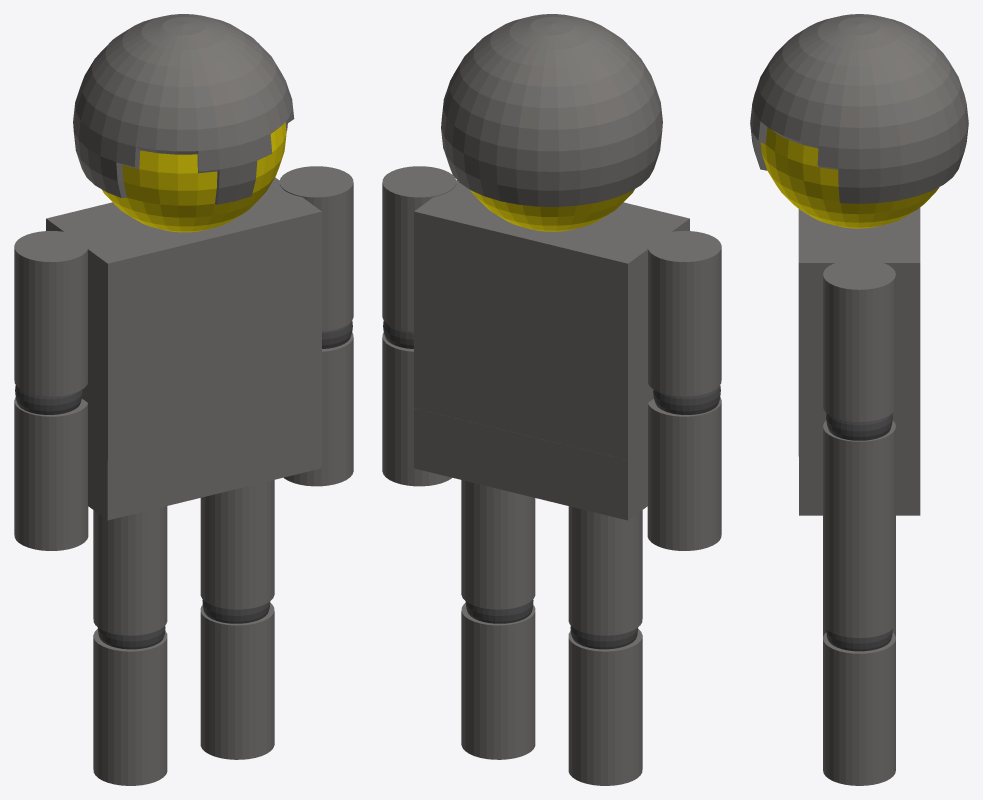
The model's file is ArmouredGenericPerson.fbx.
3 renders of one model, left to right at view 1: azimuth 30°, elevation 25°; view 2: azimuth 150°, elevation 25°; view 3: azimuth 270°, elevation 25°, orthographic.
Visible parts, largest first — view 1: Torso.Upper, Head, Hip, Arm.Left.Upper, Leg.Left.Lower, Leg.Right.Lower, Arm.Left.Lower, Leg.Left.Upper, Leg.Right.Upper, Arm.Right.Upper, Arm.Right.Lower, Elbow.Left (+2 smaller); view 2: Torso.Upper, Head, Hip, Arm.Left.Upper, Leg.Left.Lower, Leg.Right.Lower, Arm.Left.Lower, Leg.Left.Upper, Leg.Right.Upper, Arm.Right.Upper, Arm.Right.Lower, Elbow.Left (+2 smaller); view 3: Head, Torso.Upper, Arm.Right.Upper, Leg.Right.Lower, Arm.Right.Lower, Leg.Right.Upper, Hip, Elbow.Right, Knee.Left.
Part boxes in pixels (left/top/right/bottom): Torso.Upper: left=46, top=177, right=321, bottom=460; Head: left=73, top=14, right=294, bottom=232; Hip: left=88, top=408, right=321, bottom=520; Arm.Left.Upper: left=14, top=231, right=88, bottom=396; Leg.Left.Lower: left=93, top=628, right=167, bottom=785; Leg.Right.Lower: left=200, top=603, right=274, bottom=759; Arm.Left.Lower: left=14, top=397, right=88, bottom=550; Leg.Left.Upper: left=93, top=506, right=167, bottom=635; Leg.Right.Upper: left=200, top=480, right=274, bottom=609; Arm.Right.Upper: left=279, top=166, right=353, bottom=331; Arm.Right.Lower: left=284, top=332, right=353, bottom=486; Elbow.Left: left=15, top=385, right=82, bottom=414; Torso.Upper: left=414, top=180, right=689, bottom=460; Head: left=441, top=14, right=662, bottom=231; Hip: left=414, top=408, right=647, bottom=520; Arm.Left.Upper: left=647, top=231, right=721, bottom=396; Leg.Left.Lower: left=568, top=628, right=642, bottom=785; Leg.Right.Lower: left=461, top=603, right=535, bottom=759; Arm.Left.Lower: left=647, top=397, right=721, bottom=550; Leg.Left.Upper: left=568, top=506, right=642, bottom=635; Leg.Right.Upper: left=461, top=480, right=535, bottom=609; Arm.Right.Upper: left=382, top=166, right=456, bottom=331; Arm.Right.Lower: left=382, top=332, right=451, bottom=486; Elbow.Left: left=653, top=385, right=720, bottom=414; Head: left=750, top=14, right=968, bottom=228; Torso.Upper: left=798, top=207, right=920, bottom=456; Arm.Right.Upper: left=823, top=259, right=895, bottom=421; Leg.Right.Lower: left=823, top=632, right=895, bottom=785; Arm.Right.Lower: left=823, top=420, right=895, bottom=573; Leg.Right.Upper: left=823, top=559, right=895, bottom=638; Hip: left=799, top=456, right=920, bottom=515; Elbow.Right: left=826, top=413, right=892, bottom=440; Knee.Left: left=826, top=629, right=892, bottom=651.
Bounding box in the file's own units: 308 × 654 × 180.
